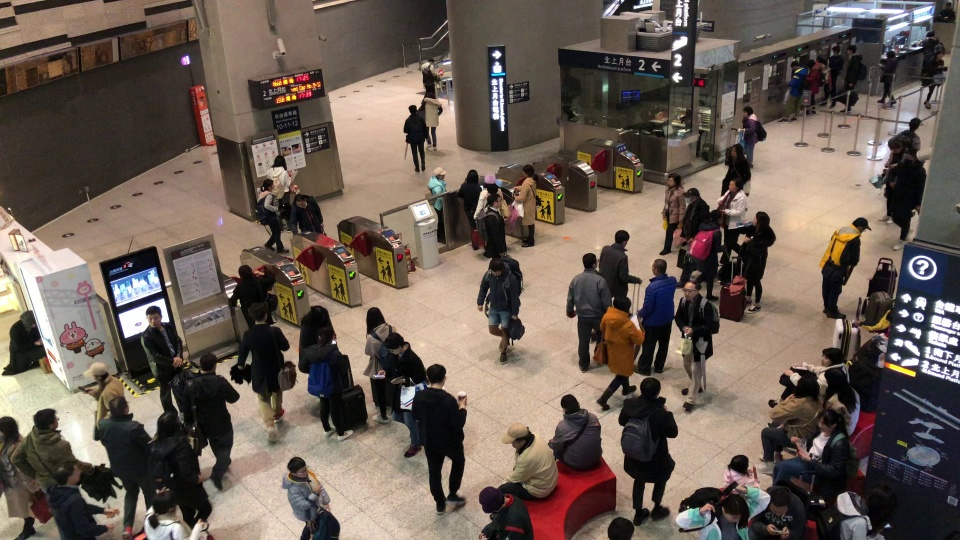person_head: (867, 483, 897, 519), (500, 421, 529, 449), (477, 485, 505, 514), (720, 496, 749, 523), (54, 460, 81, 486), (768, 488, 792, 516), (607, 516, 634, 540), (817, 408, 842, 433), (32, 407, 59, 429), (151, 489, 175, 513), (155, 410, 179, 434), (824, 369, 848, 393), (285, 455, 308, 478), (797, 375, 819, 399), (820, 346, 845, 367), (366, 305, 385, 332), (83, 361, 109, 380), (383, 332, 405, 354), (426, 363, 447, 386), (108, 395, 130, 416), (640, 376, 661, 397), (0, 415, 19, 438), (198, 350, 218, 371), (248, 302, 269, 322), (682, 279, 702, 300), (558, 393, 580, 412), (145, 305, 163, 328), (730, 453, 750, 473), (581, 251, 599, 271), (751, 210, 770, 228), (854, 216, 872, 235), (20, 309, 36, 327), (318, 325, 334, 343), (664, 171, 682, 187), (613, 297, 632, 312), (486, 193, 502, 210), (684, 186, 700, 203), (614, 229, 630, 246), (651, 258, 667, 275), (311, 306, 326, 323), (521, 163, 537, 178), (489, 259, 503, 276), (237, 263, 252, 278), (464, 168, 478, 184), (731, 141, 745, 157), (728, 177, 744, 191), (908, 116, 921, 132), (904, 149, 917, 165), (709, 208, 722, 224), (483, 173, 496, 187), (262, 178, 275, 191), (434, 166, 447, 179), (889, 140, 902, 153), (274, 154, 286, 167), (295, 194, 306, 207), (846, 43, 858, 54), (742, 105, 753, 116), (933, 51, 945, 61), (407, 104, 417, 115), (830, 45, 841, 55), (885, 49, 896, 59), (789, 59, 800, 68), (425, 89, 435, 98), (807, 58, 816, 68), (925, 29, 935, 38), (427, 56, 434, 63)
person_vbox: (617, 376, 678, 528), (411, 363, 466, 516), (234, 302, 291, 444), (97, 394, 151, 540), (770, 408, 861, 492), (146, 410, 213, 522), (11, 408, 95, 493), (190, 351, 241, 491), (753, 374, 823, 474), (764, 368, 861, 436), (673, 279, 720, 410), (591, 296, 645, 410), (300, 326, 353, 442), (564, 252, 613, 374), (381, 332, 428, 459), (46, 460, 120, 540), (817, 216, 872, 319), (674, 484, 770, 540), (139, 305, 186, 419), (632, 257, 677, 375), (766, 347, 850, 407), (475, 258, 522, 365), (497, 421, 559, 502), (0, 415, 38, 540), (816, 482, 897, 540), (361, 305, 398, 426), (546, 394, 603, 472), (281, 455, 331, 539), (888, 148, 927, 248), (686, 209, 727, 303), (739, 214, 777, 313), (675, 187, 709, 288), (143, 488, 209, 540), (751, 484, 808, 540), (598, 229, 642, 300), (80, 361, 124, 431), (477, 485, 534, 539), (1, 310, 46, 376), (296, 305, 338, 375), (717, 177, 750, 265), (875, 140, 907, 226), (255, 177, 290, 255), (228, 264, 269, 327), (511, 163, 541, 249), (657, 171, 686, 256), (475, 193, 508, 261), (775, 60, 808, 124), (839, 43, 868, 115), (266, 154, 292, 234), (458, 169, 482, 252), (424, 165, 449, 242), (736, 105, 767, 167), (403, 104, 429, 174), (473, 174, 509, 224), (720, 142, 752, 198), (817, 45, 844, 110), (419, 88, 442, 154), (722, 453, 759, 494), (290, 193, 325, 234), (923, 51, 945, 109), (806, 57, 827, 117), (876, 47, 898, 104), (887, 116, 921, 151), (919, 28, 946, 58), (421, 56, 439, 93)
